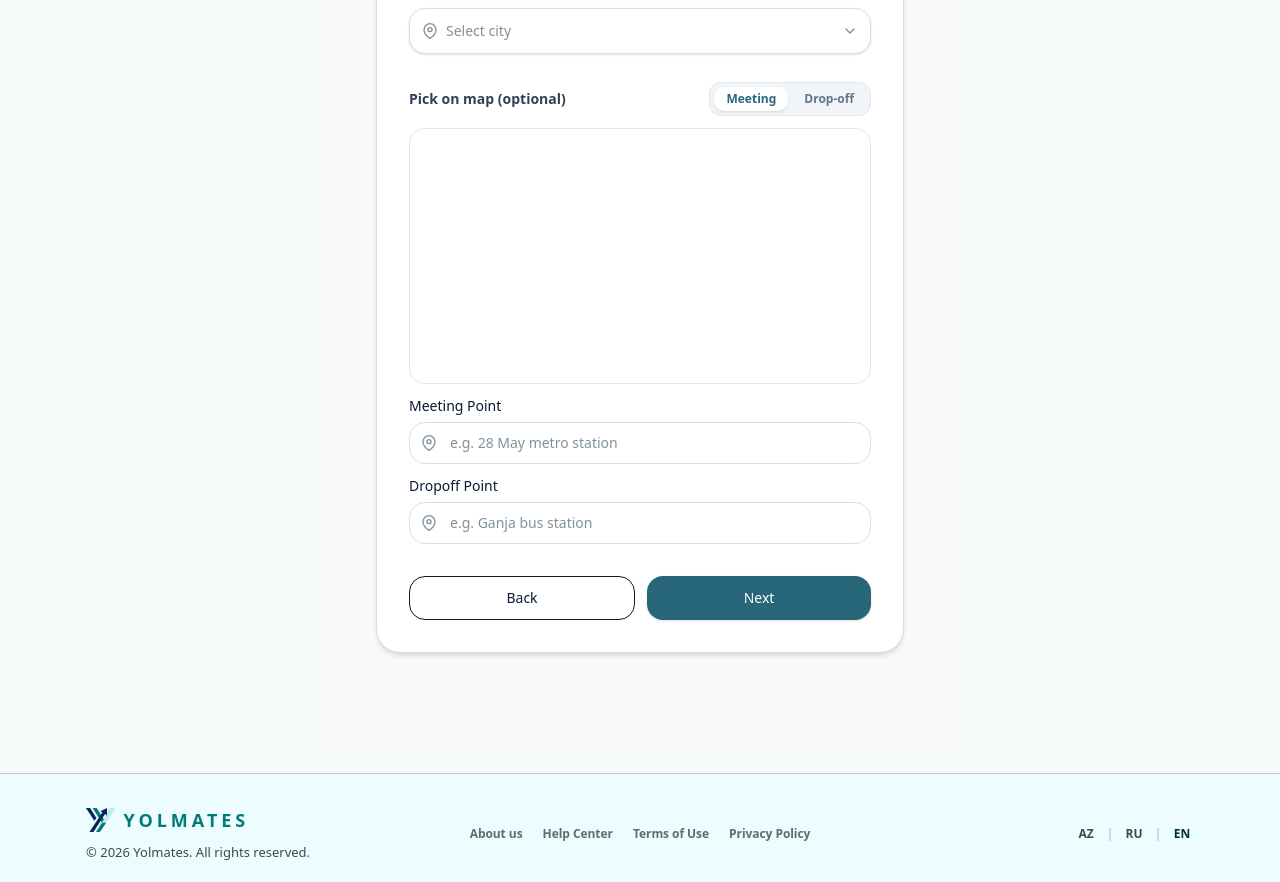
Test: CreateTripPage › shows validation errors when moving to the next step without choosing cities
The width and height of the screenshot is (1280, 882).
(page scrolled)
Note: Click Next button
Click the button "Next" at (759, 598), box left=647, top=576, right=871, bottom=620
(page scrolled)
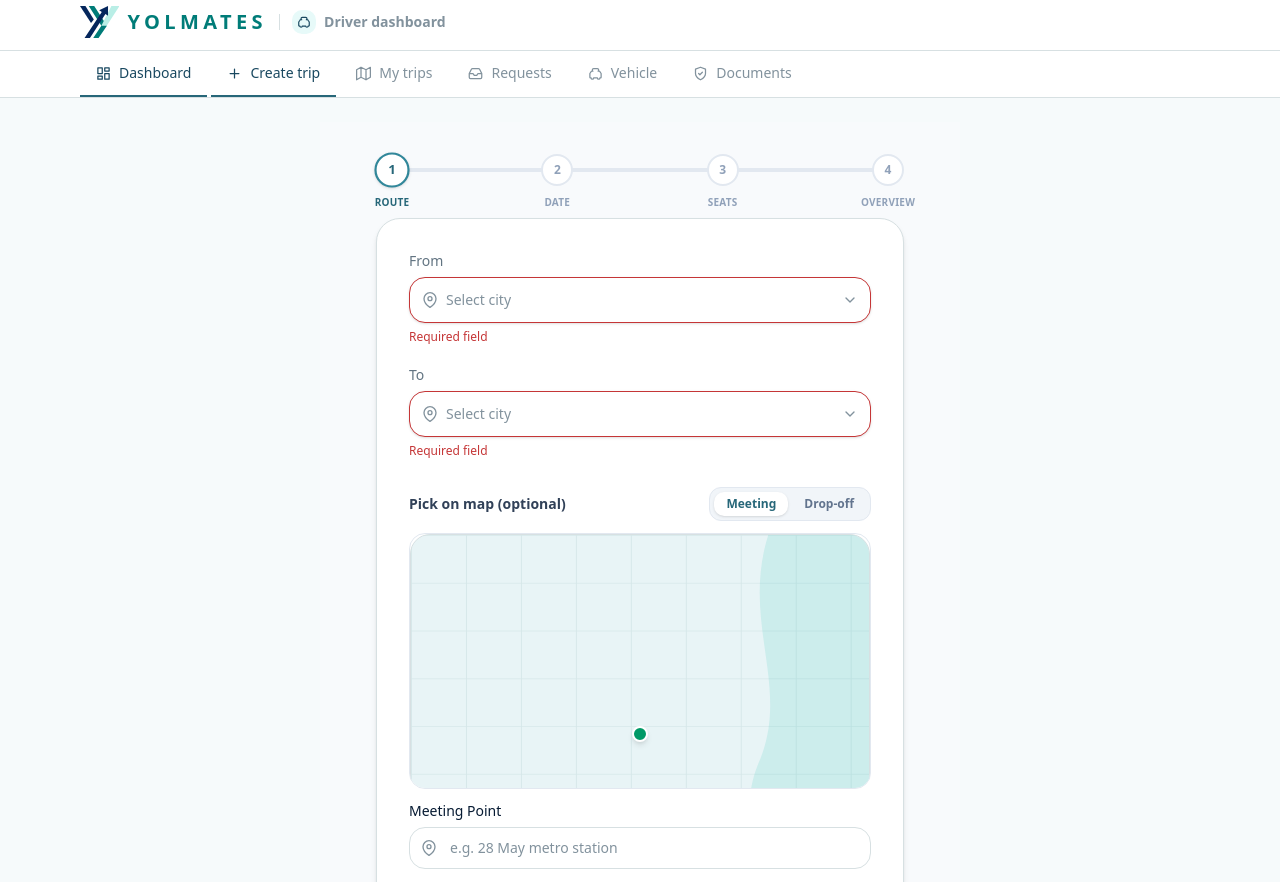
Expected: the text "Required field" below "From" is shown, left=409, top=328, right=488, bottom=345
